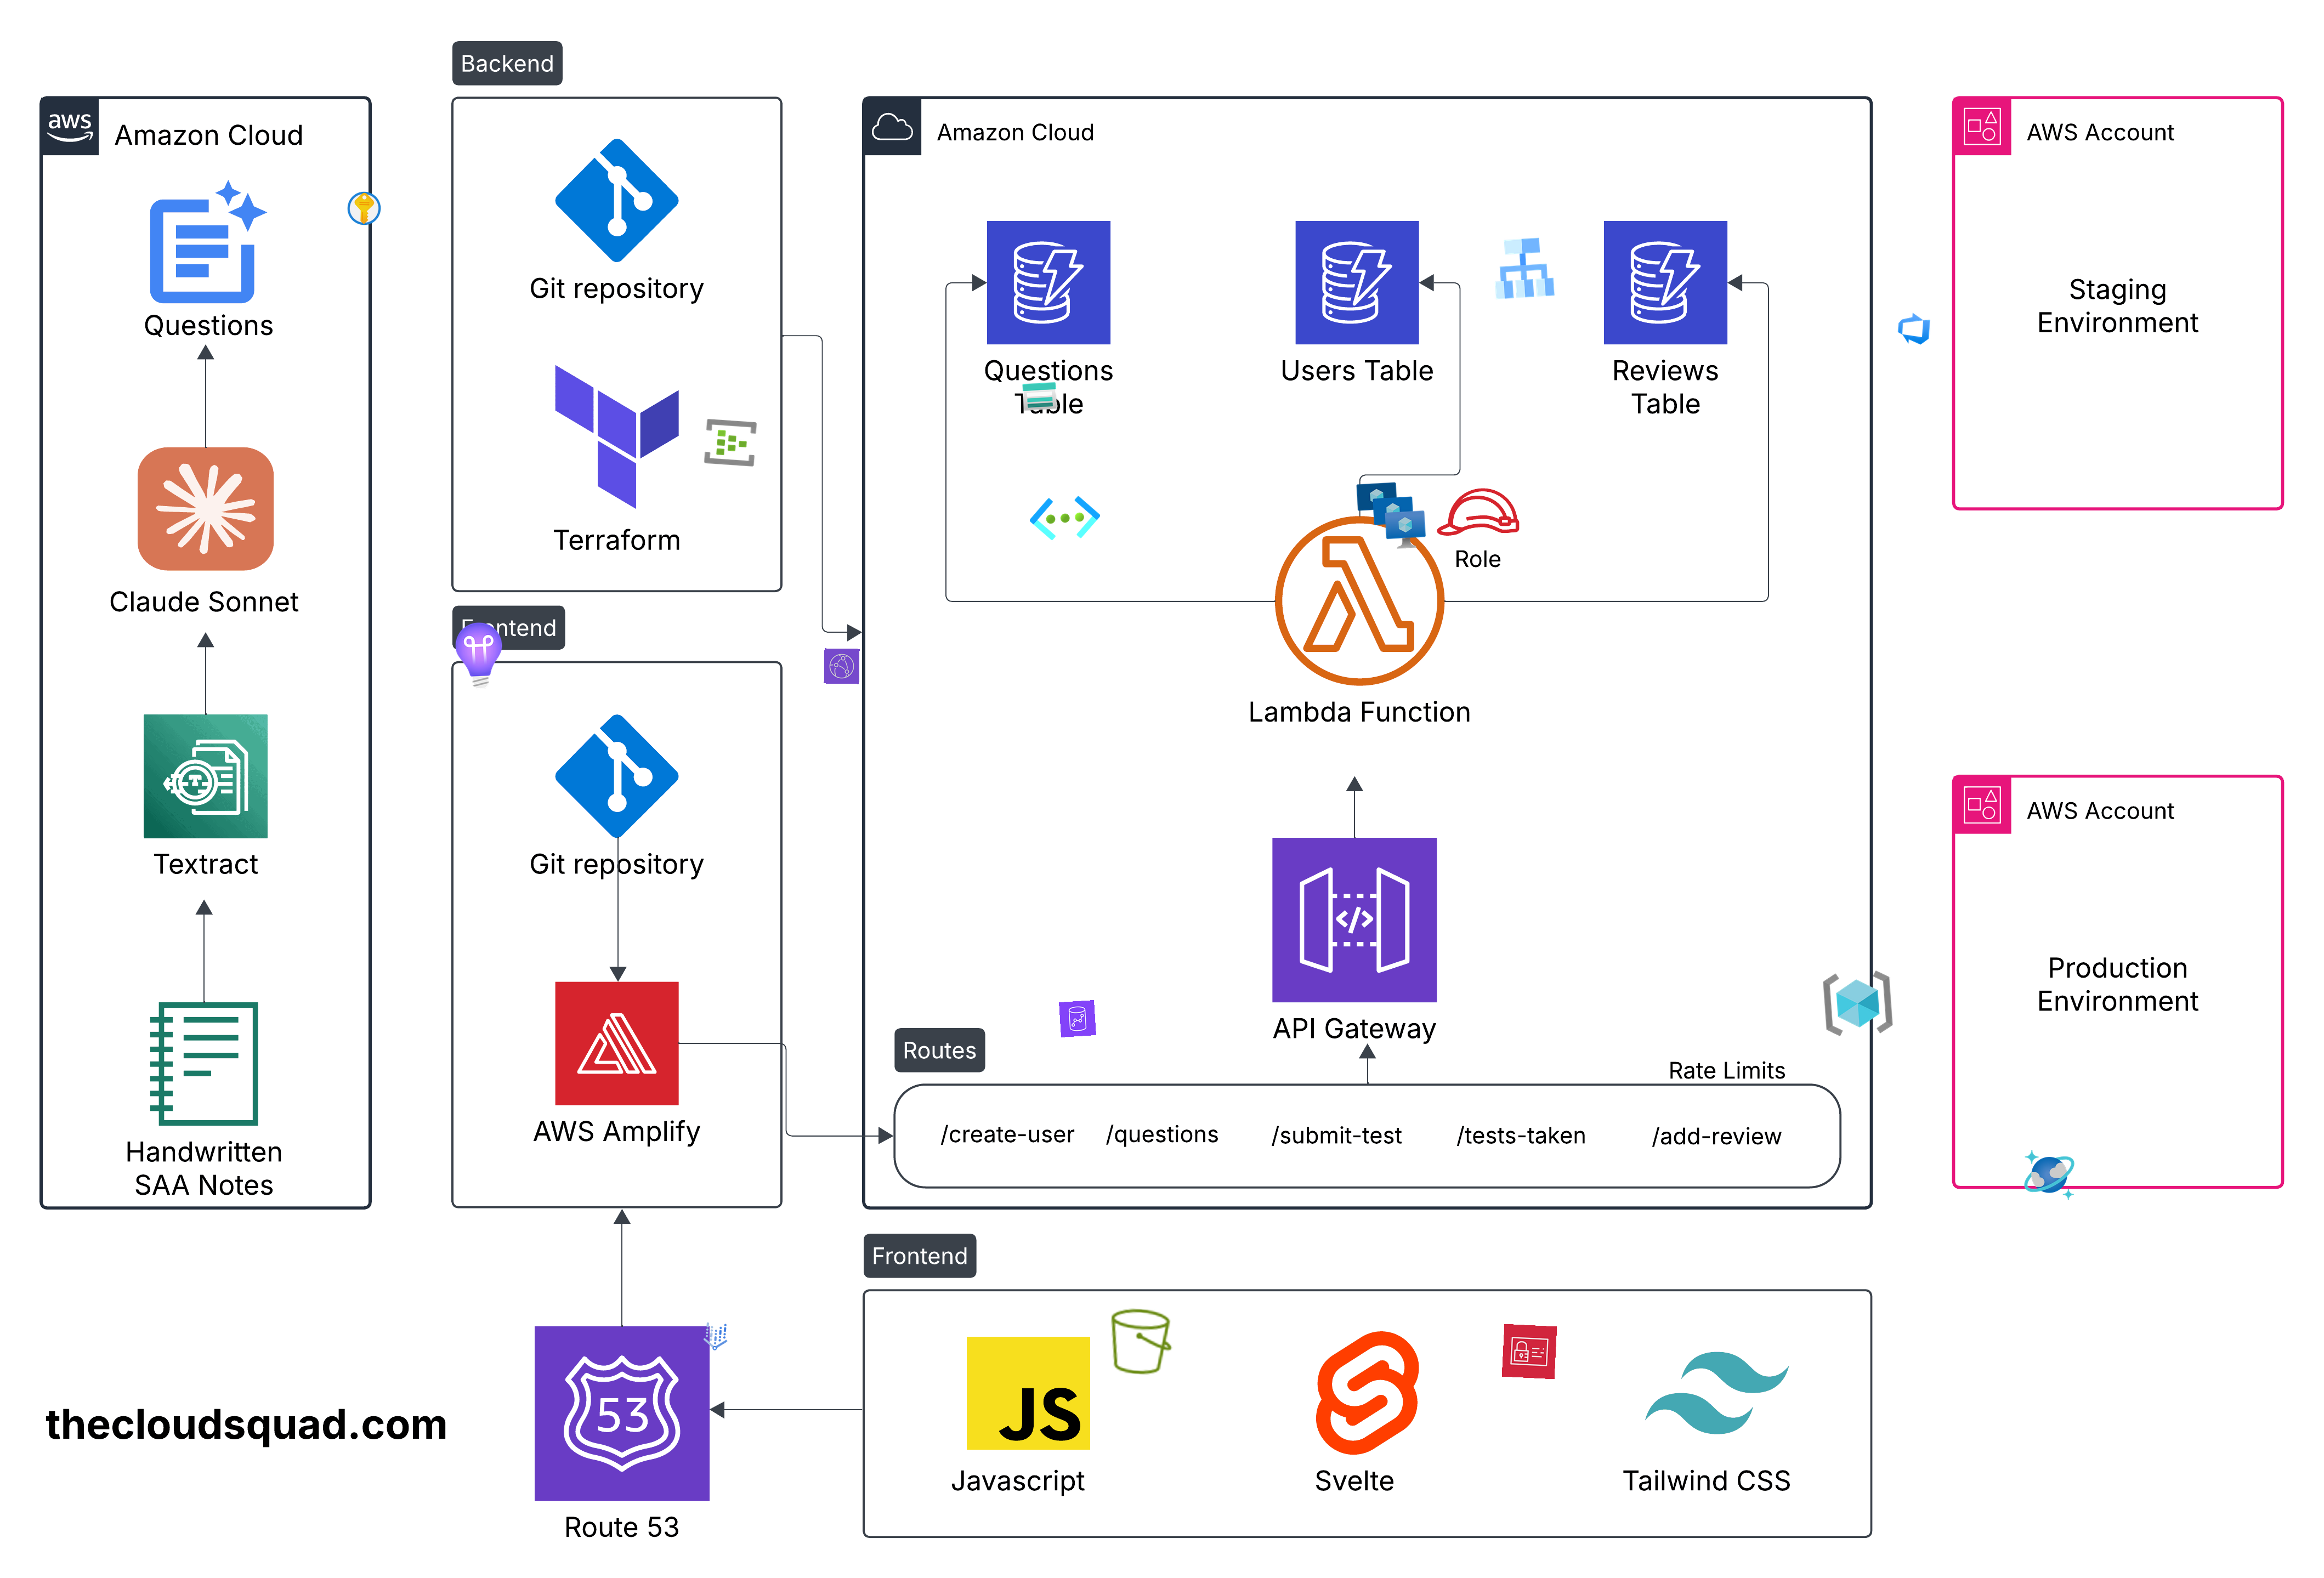aws_amazon_cloudfront: (824, 648, 859, 685)
aws_amazon_redshift: (1058, 1000, 1097, 1037)
aws_identity_and_access_management: (1502, 1324, 1558, 1379)
aws_simple_storage_service_bucket: (1102, 1303, 1178, 1379)
azure_application_insights: (442, 618, 516, 694)
azure_cosmos_db: (2023, 1148, 2076, 1201)
azure_devops: (1894, 310, 1933, 347)
azure_event_hubs: (702, 414, 759, 470)
azure_key_vaults: (347, 190, 382, 227)
azure_resource_groups: (1820, 965, 1896, 1041)
azure_storage_accounts: (1021, 379, 1058, 416)
azure_virtual_networks: (1026, 481, 1102, 557)
azure_vm_scale_sets: (1352, 477, 1428, 551)
gcp_cloud_load_balancing: (1486, 231, 1560, 305)
gcp_vertex_ai: (697, 1317, 734, 1356)
